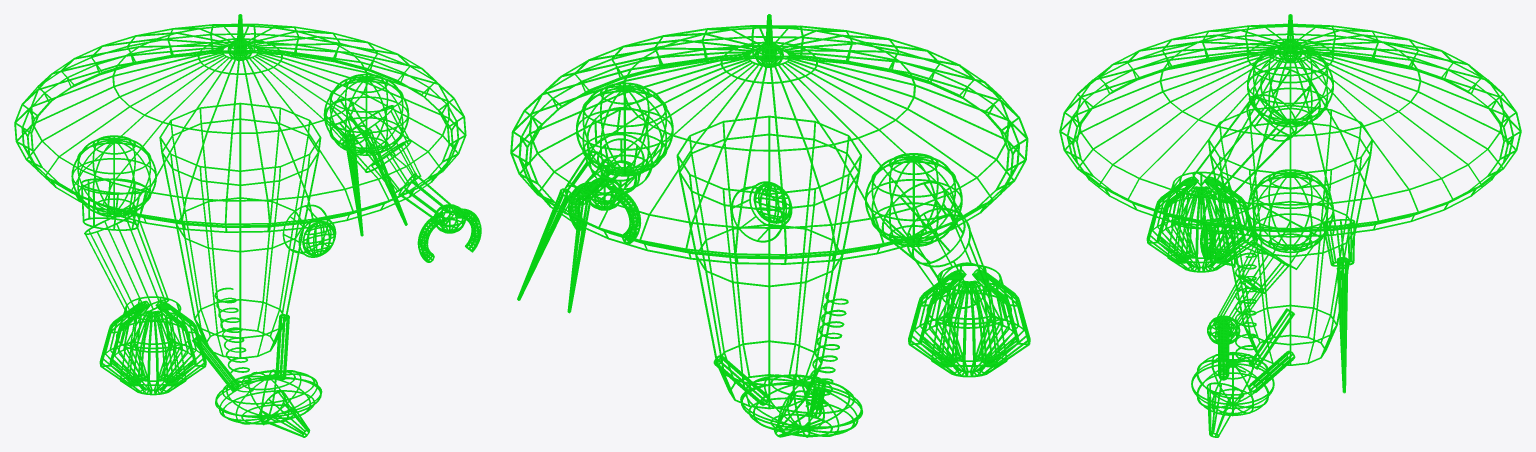
File: construction-droids-wireframe.glb
The picture shows the model from 3 angles, left to right: view 1: azimuth 30°, elevation 25°; view 2: azimuth 150°, elevation 25°; view 3: azimuth 270°, elevation 25°; orthographic projection. The views are drawn at different scales.
Parts seen in each view (by area): view 1: chassis technical wire, heavy-manipulator technical wire, spot-welder technical wire, light-manipulator technical wire, laser-solder-tool technical wire, optical-sensor technical wire; view 2: chassis technical wire, heavy-manipulator technical wire, spot-welder technical wire, laser-solder-tool technical wire, light-manipulator technical wire, optical-sensor technical wire; view 3: chassis technical wire, heavy-manipulator technical wire, spot-welder technical wire, light-manipulator technical wire, laser-solder-tool technical wire, optical-sensor technical wire.
Part boxes in pixels (x1=…): chassis technical wire: x1=14, y1=14, x2=466, y2=391; heavy-manipulator technical wire: x1=99, y1=296, x2=206, y2=395; spot-welder technical wire: x1=214, y1=287, x2=322, y2=437; light-manipulator technical wire: x1=398, y1=173, x2=481, y2=262; laser-solder-tool technical wire: x1=325, y1=98, x2=407, y2=236; optical-sensor technical wire: x1=282, y1=204, x2=336, y2=257; chassis technical wire: x1=510, y1=14, x2=1028, y2=418; heavy-manipulator technical wire: x1=908, y1=264, x2=1030, y2=377; spot-welder technical wire: x1=740, y1=292, x2=862, y2=437; laser-solder-tool technical wire: x1=517, y1=151, x2=616, y2=313; light-manipulator technical wire: x1=568, y1=161, x2=641, y2=243; optical-sensor technical wire: x1=731, y1=181, x2=792, y2=242; chassis technical wire: x1=1059, y1=14, x2=1521, y2=393; heavy-manipulator technical wire: x1=1146, y1=171, x2=1255, y2=272; spot-welder technical wire: x1=1191, y1=252, x2=1274, y2=437; light-manipulator technical wire: x1=1207, y1=275, x2=1264, y2=380; laser-solder-tool technical wire: x1=1322, y1=219, x2=1355, y2=393; optical-sensor technical wire: x1=1200, y1=214, x2=1235, y2=267.
Size of the model in its own units: 2.56 by 2.44 by 2.49.
